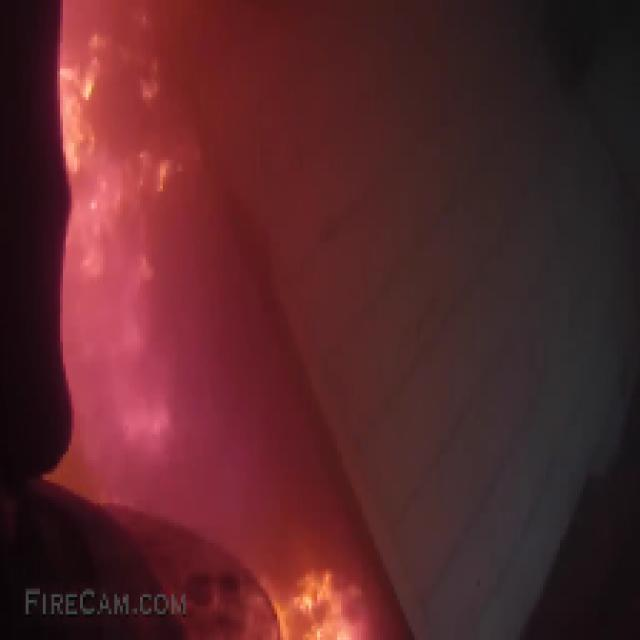Fire: (46, 3, 383, 640)
Smoke: (195, 2, 640, 472)
